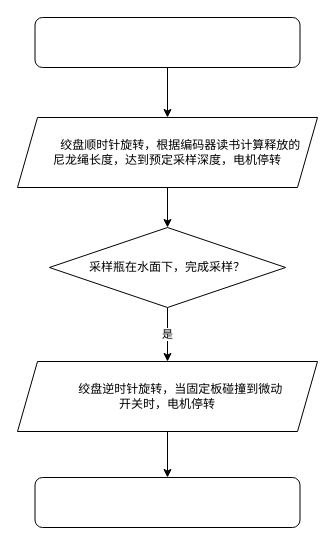
The diagram is 335 pixels wide and 545 high, and some of its shapes have lost their labels. The centre of each missing label's shape, as x and y in pixels:
"开始采样" goes at [167,42].
"采样结束" goes at [167,502].
